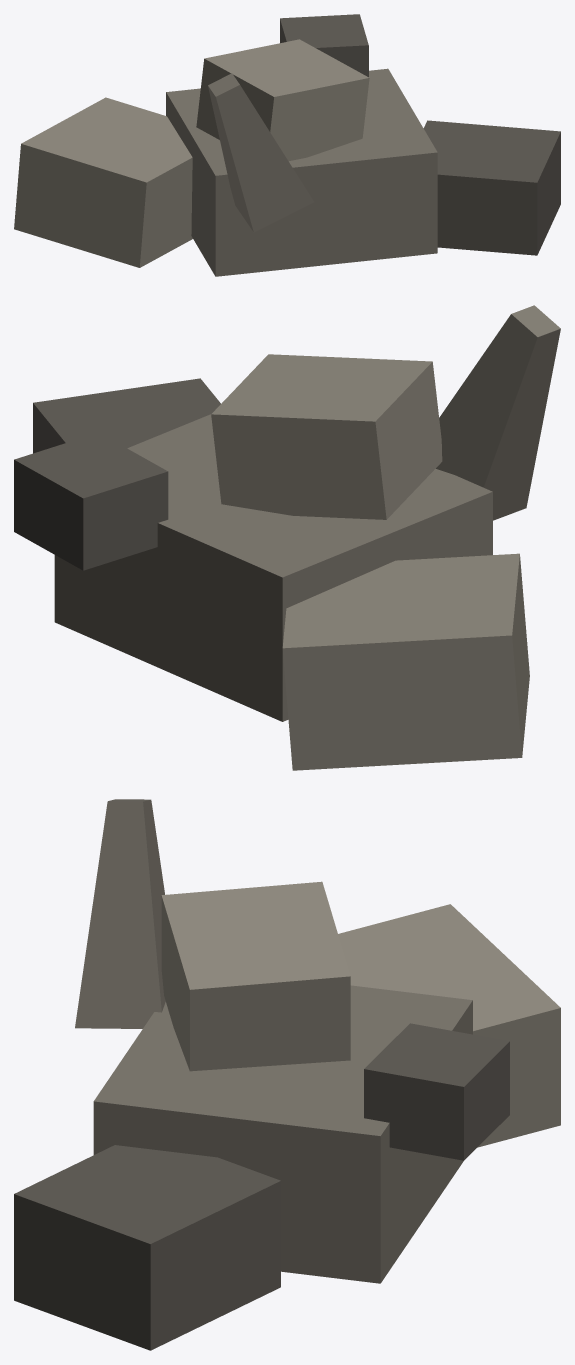
The model's file is rubble_pile.glb.
3 views of the same model, one above another, from view 1: azimuth 30°, elevation 25°; view 2: azimuth 150°, elevation 25°; view 3: azimuth 270°, elevation 25° (orthographic). The views are drawn at different scales.
Visible parts, largest first — view 1: rubble_pile; view 2: rubble_pile; view 3: rubble_pile.
Boxes of the visible parts, x1=… form: rubble_pile: x1=14, y1=14, x2=560, y2=276; rubble_pile: x1=14, y1=305, x2=560, y2=770; rubble_pile: x1=14, y1=799, x2=560, y2=1350.
Bounding box in the file's own units: 1.66 × 0.7927 × 1.21.
1 material, 1 textured.
